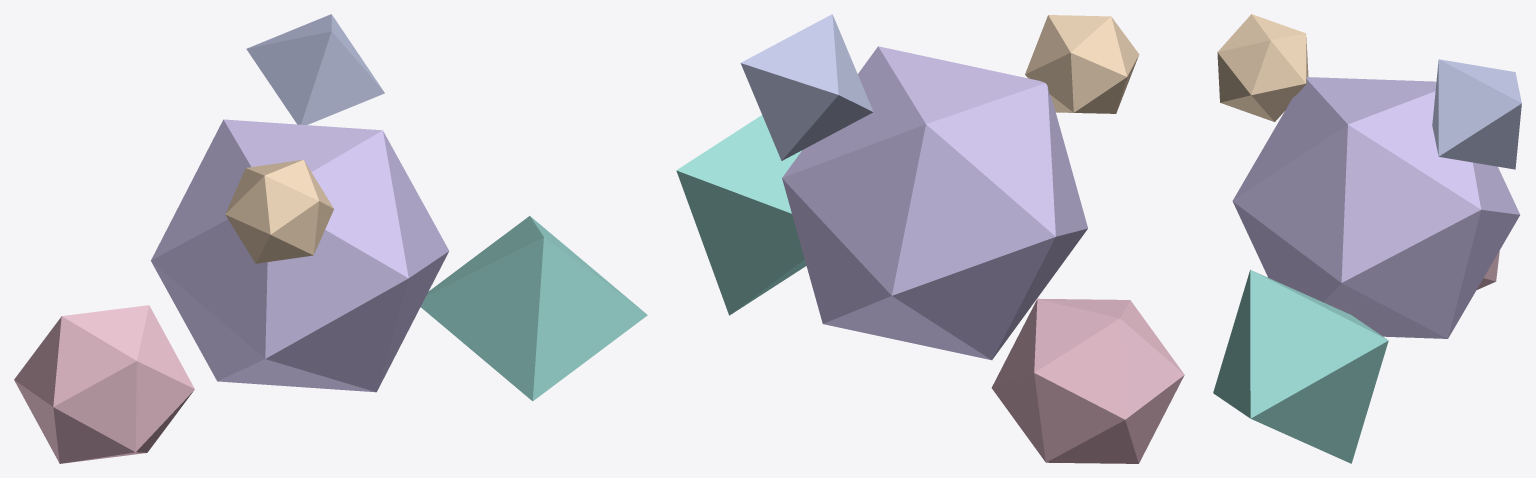
The model's file is crystals.glb.
3 views of the same model, side by side, from view 1: azimuth 30°, elevation 25°; view 2: azimuth 150°, elevation 25°; view 3: azimuth 270°, elevation 25° (orthographic). The views are drawn at different scales.
Parts seen in each view (by area): view 1: crystal-0, crystal-1, crystal-2, crystal-3, crystal-4; view 2: crystal-0, crystal-2, crystal-1, crystal-3, crystal-4; view 3: crystal-0, crystal-1, crystal-3, crystal-4, crystal-2.
Boxes of the visible parts, x1=… form: crystal-0: x1=151, y1=119, x2=448, y2=392; crystal-1: x1=421, y1=216, x2=647, y2=401; crystal-2: x1=14, y1=305, x2=194, y2=463; crystal-3: x1=246, y1=14, x2=384, y2=124; crystal-4: x1=225, y1=159, x2=333, y2=263; crystal-0: x1=782, y1=46, x2=1087, y2=360; crystal-2: x1=991, y1=298, x2=1184, y2=463; crystal-1: x1=676, y1=115, x2=806, y2=315; crystal-3: x1=740, y1=14, x2=873, y2=160; crystal-4: x1=1025, y1=15, x2=1139, y2=113; crystal-0: x1=1232, y1=77, x2=1520, y2=338; crystal-1: x1=1213, y1=269, x2=1388, y2=463; crystal-3: x1=1432, y1=59, x2=1521, y2=169; crystal-4: x1=1217, y1=14, x2=1308, y2=121; crystal-2: x1=1477, y1=251, x2=1499, y2=289.
Bounding box in the file's own units: 2.31 × 1.54 × 1.23.
